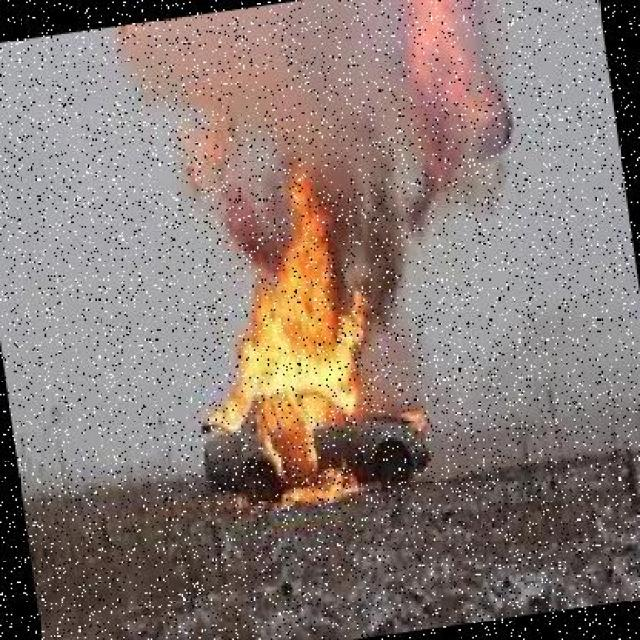fire: (166, 146, 432, 500)
